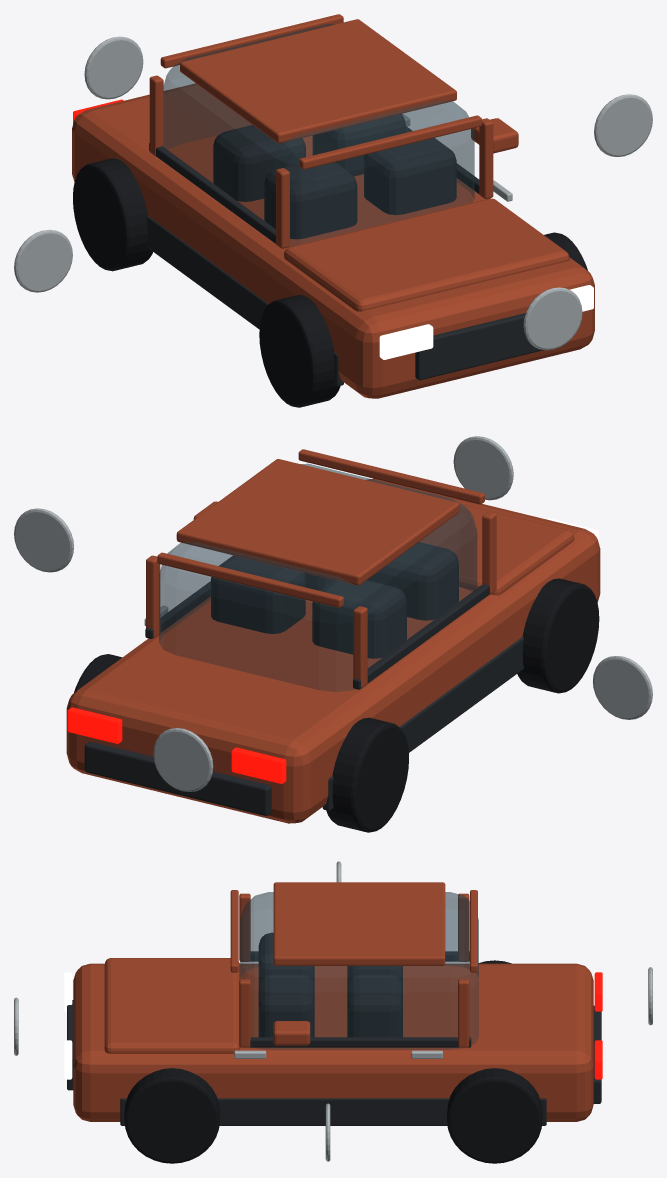
Rendered from compact-city.glb.
3 views of the same model, one above another, from view 1: azimuth 30°, elevation 25°; view 2: azimuth 150°, elevation 25°; view 3: azimuth 270°, elevation 25° (orthographic). The views are drawn at different scales.
Parts seen in each view (by area): view 1: BATCH_01_MAT_CarPaint_compact-city, BATCH_03_MAT_Glass, BATCH_00_MAT_BlackMetal, wheel_front_L.004, wheel_rear_L.004, hub_front_L.004, hub_rear_R.004, hub_rear_L.004, hub_front_R.004, BATCH_05_MAT_WhiteLight; view 2: BATCH_01_MAT_CarPaint_compact-city, BATCH_03_MAT_Glass, BATCH_00_MAT_BlackMetal, wheel_rear_L.004, wheel_front_L.004, hub_rear_R.004, hub_front_R.004, hub_rear_L.004, hub_front_L.004, BATCH_04_MAT_RedLight, wheel_rear_R.004; view 3: BATCH_01_MAT_CarPaint_compact-city, BATCH_03_MAT_Glass, BATCH_00_MAT_BlackMetal, wheel_front_R.004, wheel_rear_R.004, BATCH_04_MAT_RedLight, BATCH_05_MAT_WhiteLight, BATCH_02_MAT_Chrome.
Part boxes in pixels (box(x1,y1,x2,y2)): BATCH_01_MAT_CarPaint_compact-city: box(72, 14, 594, 398); BATCH_03_MAT_Glass: box(163, 24, 474, 246); BATCH_00_MAT_BlackMetal: box(146, 114, 543, 386); wheel_front_L.004: box(259, 295, 340, 407); wheel_rear_L.004: box(73, 158, 152, 271); hub_front_L.004: box(523, 287, 582, 350); hub_rear_R.004: box(84, 36, 143, 99); hub_rear_L.004: box(14, 229, 72, 292); hub_front_R.004: box(594, 94, 652, 156); BATCH_05_MAT_WhiteLight: box(379, 285, 593, 359); BATCH_01_MAT_CarPaint_compact-city: box(66, 449, 600, 823); BATCH_03_MAT_Glass: box(159, 463, 477, 691); BATCH_00_MAT_BlackMetal: box(84, 542, 523, 815); wheel_rear_L.004: box(326, 717, 408, 832); wheel_front_L.004: box(517, 578, 599, 693); hub_rear_R.004: box(153, 728, 213, 791); hub_front_R.004: box(14, 508, 73, 572); hub_rear_L.004: box(593, 656, 652, 719); hub_front_L.004: box(453, 436, 513, 500); BATCH_04_MAT_RedLight: box(67, 707, 286, 783); wheel_rear_R.004: box(74, 654, 122, 692); BATCH_01_MAT_CarPaint_compact-city: box(73, 882, 593, 1121); BATCH_03_MAT_Glass: box(240, 892, 478, 1049); BATCH_00_MAT_BlackMetal: box(67, 932, 601, 1125); wheel_front_R.004: box(124, 1068, 219, 1163); wheel_rear_R.004: box(447, 1068, 542, 1163); BATCH_04_MAT_RedLight: box(594, 972, 602, 1079); BATCH_05_MAT_WhiteLight: box(64, 972, 72, 1079); BATCH_02_MAT_Chrome: box(234, 1050, 442, 1058).
Bounding box in the file's own units: 4.76 × 1.54 × 4.81.
